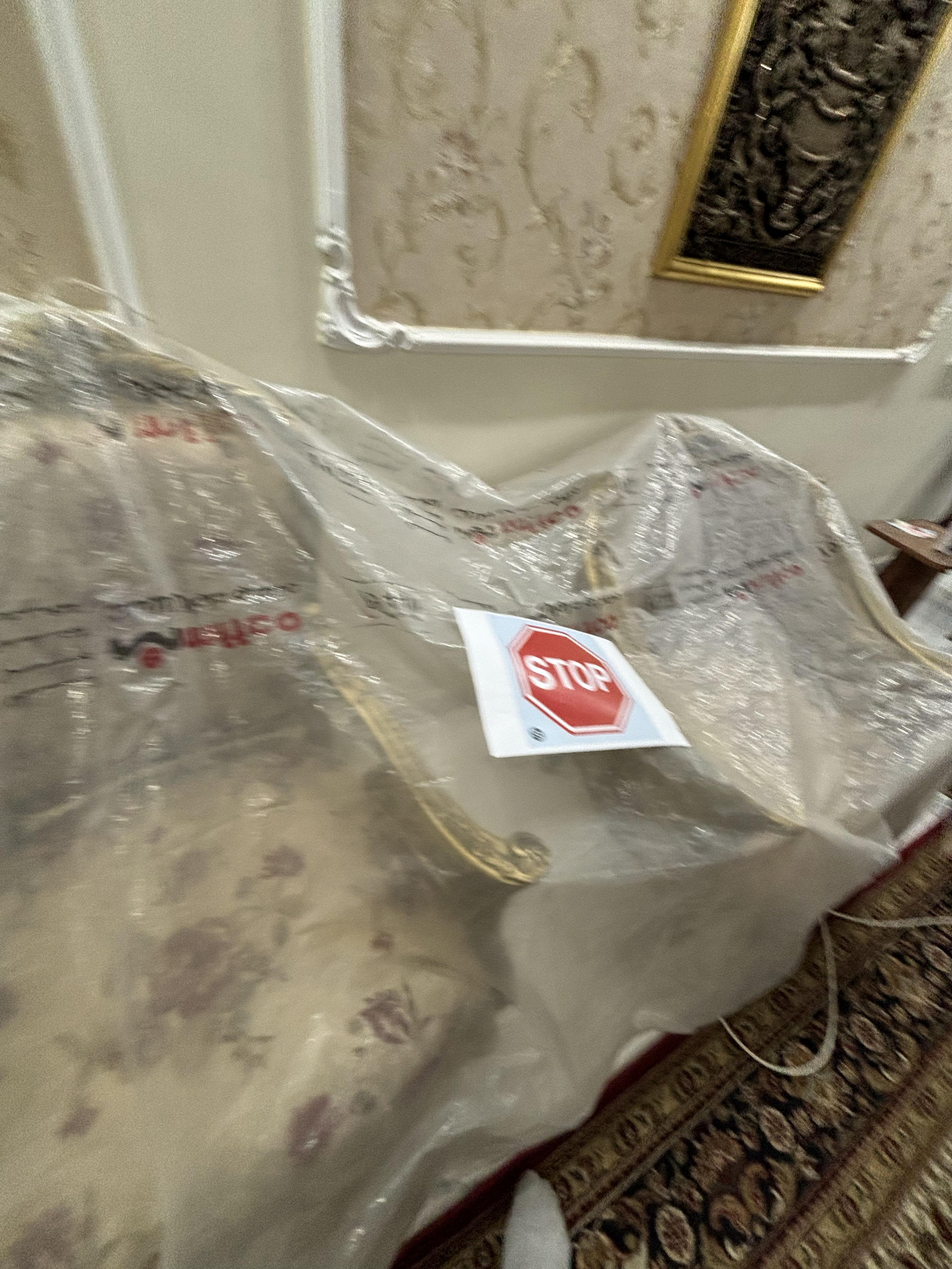Stop: (505, 621, 640, 747)
